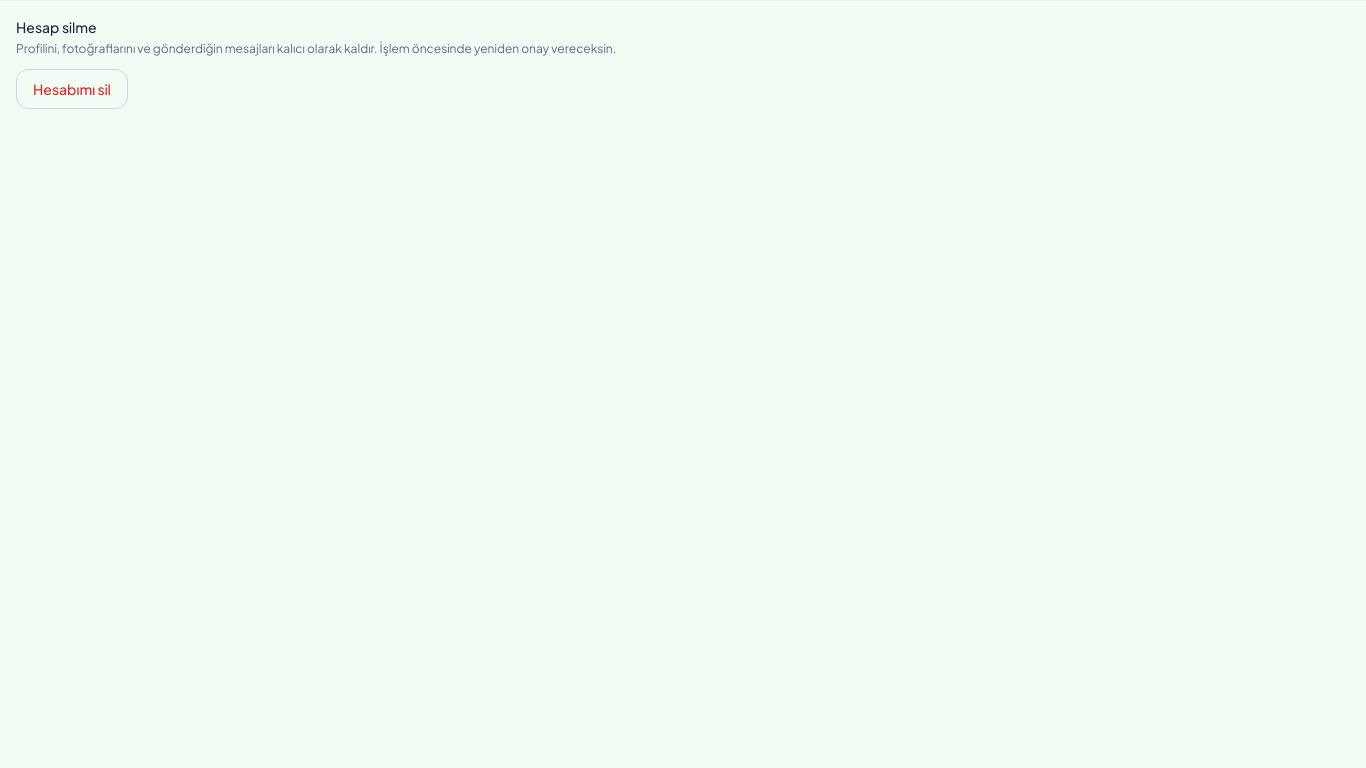
Test case: prevents duplicate submits and dismissing a deletion in flight
The image size is (1366, 768).
Later steps or results of the test are not shown.
Click the button "Hesabımı sil".
click(72, 89)  # box [16,69,128,109]
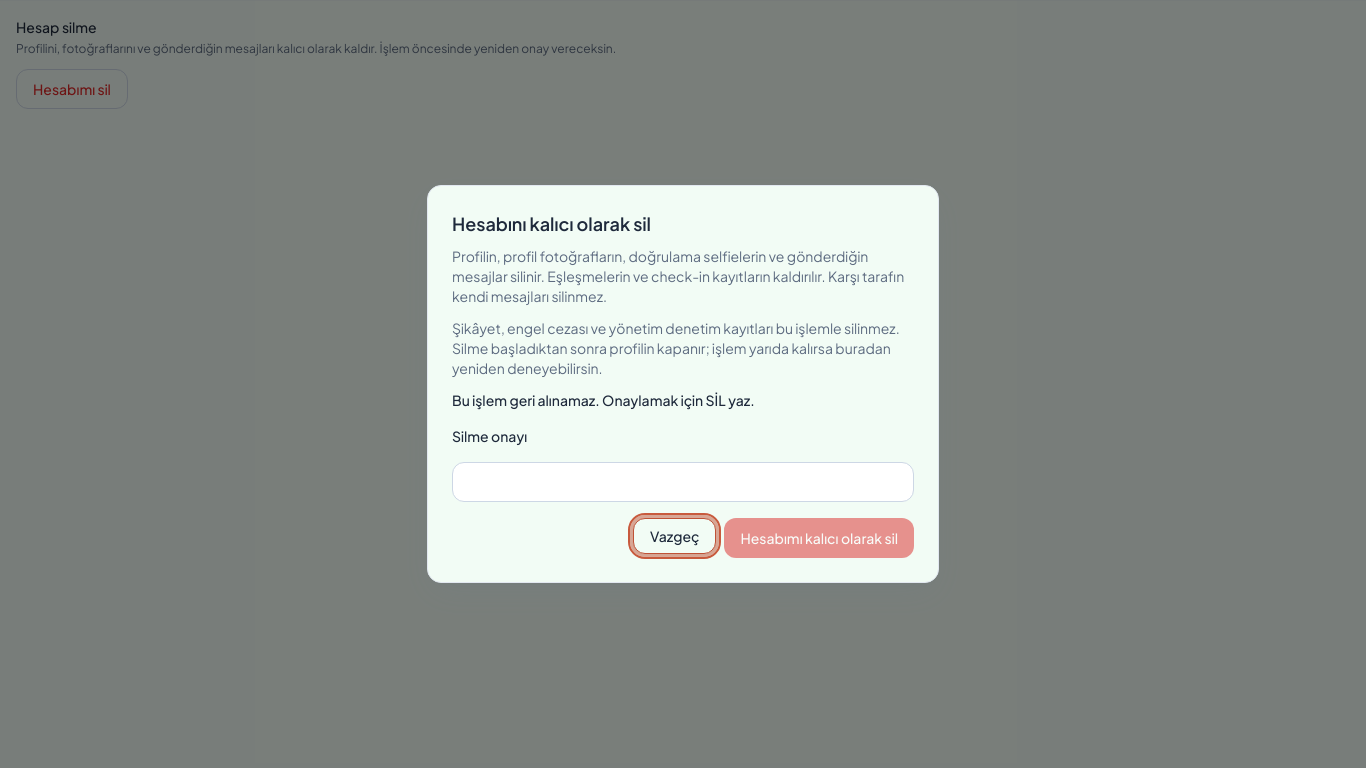
Expected: the dialog is shown, [427,185,939,583]
